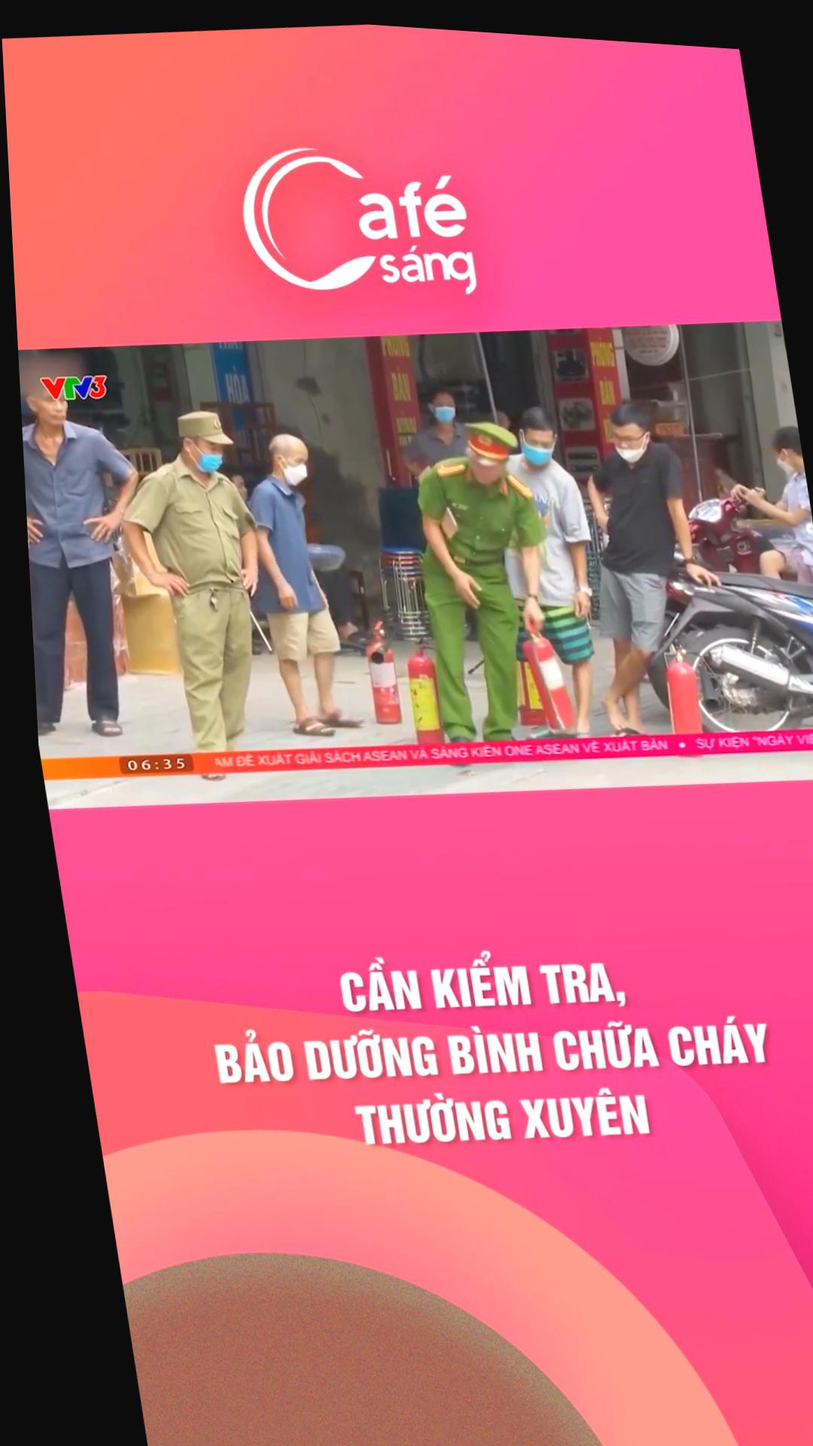FireExtinguisher: (501, 602, 589, 737), (385, 636, 456, 753), (639, 622, 712, 732), (345, 602, 401, 733)
not: (30, 670, 813, 836), (352, 313, 453, 502), (527, 297, 645, 453)
